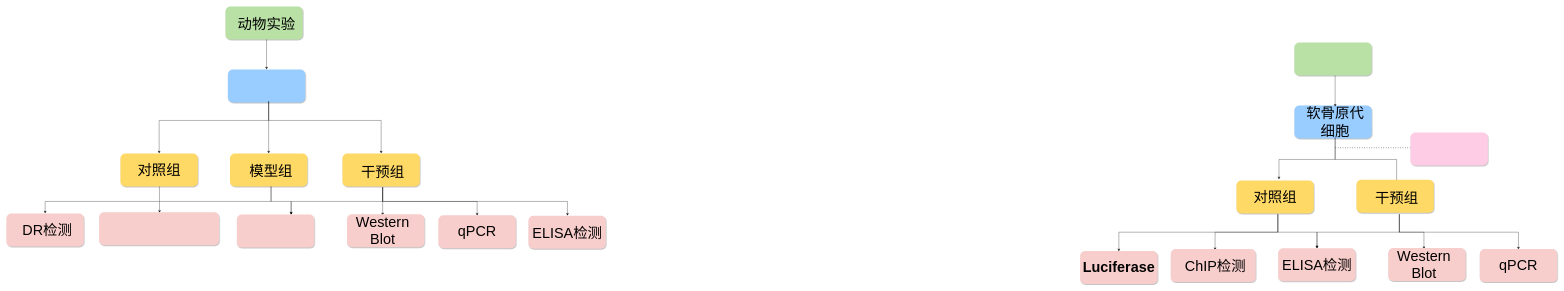
Some shapes in this 1564 by 291 pixel diagram are drawn without their labels. The centre of each missing label's shape, as x and y in pixels:
"ACH小鼠" belongs at point (266, 86).
"全身骨架染色" belongs at point (159, 229).
"模型检测" belongs at point (1449, 149).
"细胞实验" belongs at point (1333, 59).
"藏红固绿染色" belongs at point (276, 231).
